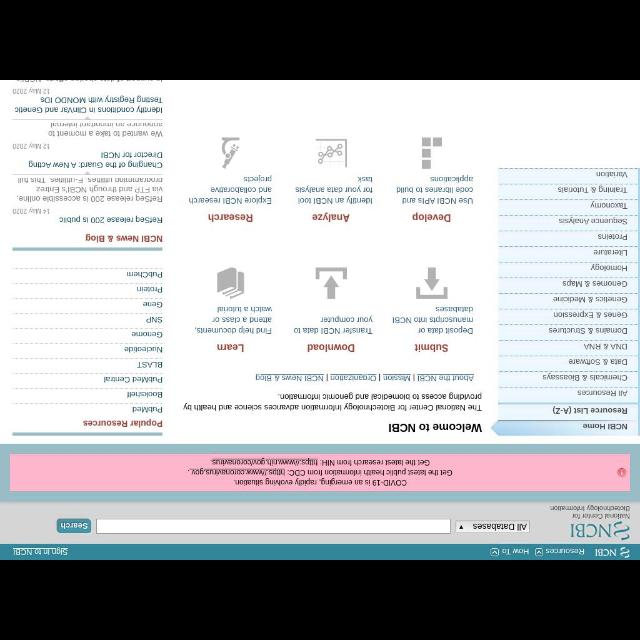icon: (315, 266, 347, 300), (416, 267, 448, 299), (315, 138, 347, 168), (216, 266, 244, 300), (421, 136, 441, 170), (220, 137, 240, 169), (489, 548, 498, 556), (535, 548, 543, 556), (459, 525, 463, 529)
iframe: (11, 454, 630, 491)
image: (570, 522, 630, 540), (594, 546, 630, 558), (618, 468, 626, 477)
input: (96, 518, 450, 534)
link: (255, 372, 323, 382), (416, 374, 474, 382), (330, 373, 376, 381), (383, 374, 411, 382)
panel: (498, 167, 640, 435), (11, 81, 163, 251), (13, 266, 164, 436)
spinner: (455, 520, 529, 532)
text: (182, 392, 482, 411), (16, 176, 162, 202), (14, 96, 162, 114), (396, 173, 474, 204), (187, 468, 453, 477), (188, 176, 272, 204), (392, 306, 473, 334), (194, 306, 272, 334), (28, 152, 162, 168), (296, 177, 372, 205), (47, 122, 163, 138), (210, 458, 430, 466), (293, 315, 373, 335), (232, 478, 406, 486), (550, 505, 630, 519), (388, 423, 482, 432), (58, 216, 162, 224), (82, 418, 162, 428), (542, 373, 628, 381), (86, 234, 162, 242), (553, 406, 627, 414), (553, 310, 627, 318), (558, 186, 628, 194), (559, 216, 627, 224), (562, 279, 628, 287), (568, 358, 628, 366), (548, 328, 628, 334), (12, 547, 68, 555), (553, 297, 627, 303), (308, 343, 354, 352), (413, 212, 451, 222), (312, 212, 350, 222), (590, 200, 628, 210), (591, 262, 627, 272), (208, 214, 252, 222), (583, 422, 627, 430), (577, 389, 627, 396), (104, 376, 162, 382), (472, 524, 528, 530), (414, 343, 448, 352), (546, 548, 584, 556), (12, 206, 50, 214), (12, 142, 50, 150), (12, 87, 50, 95), (126, 270, 162, 278), (596, 170, 628, 178), (584, 344, 626, 350), (124, 346, 162, 352), (216, 344, 244, 352), (61, 522, 88, 530), (126, 391, 162, 397), (593, 250, 627, 256), (598, 233, 626, 240), (132, 407, 162, 413), (132, 331, 162, 337), (502, 548, 530, 554), (142, 300, 162, 308), (136, 362, 162, 368), (138, 286, 162, 292), (146, 317, 162, 323)
textbutton: (56, 519, 92, 533)
toolbar: (1, 502, 640, 544)
